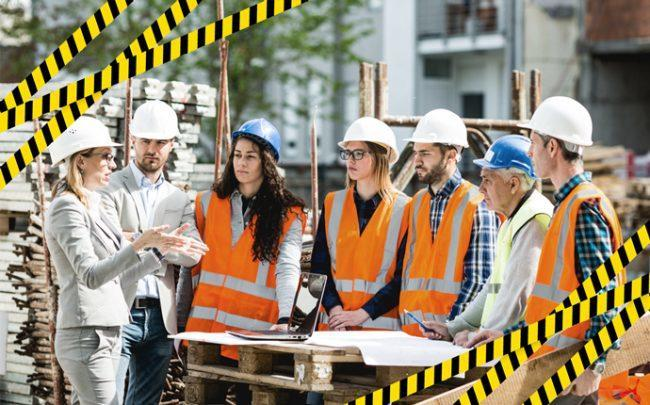helmet: (519, 97, 596, 147), (48, 118, 124, 167), (339, 118, 400, 166), (405, 110, 472, 152), (473, 136, 539, 176), (232, 116, 285, 161), (128, 100, 181, 141)
